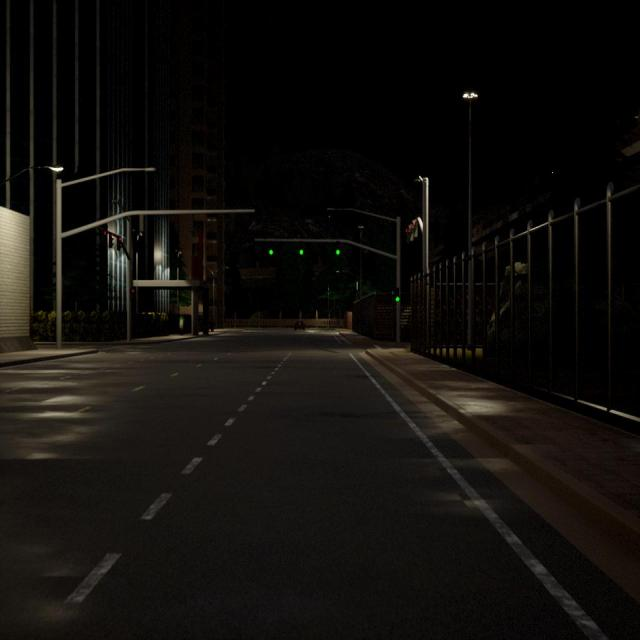Pedestrian: (178, 314, 185, 336)
Vehicle: (293, 319, 306, 332)
traffic_light: (100, 229, 107, 248), (408, 224, 414, 241), (412, 220, 418, 237), (116, 235, 122, 251), (129, 288, 134, 304), (269, 240, 274, 256), (395, 287, 400, 303), (299, 241, 304, 256), (109, 233, 114, 248), (336, 240, 340, 256), (405, 228, 409, 241)
